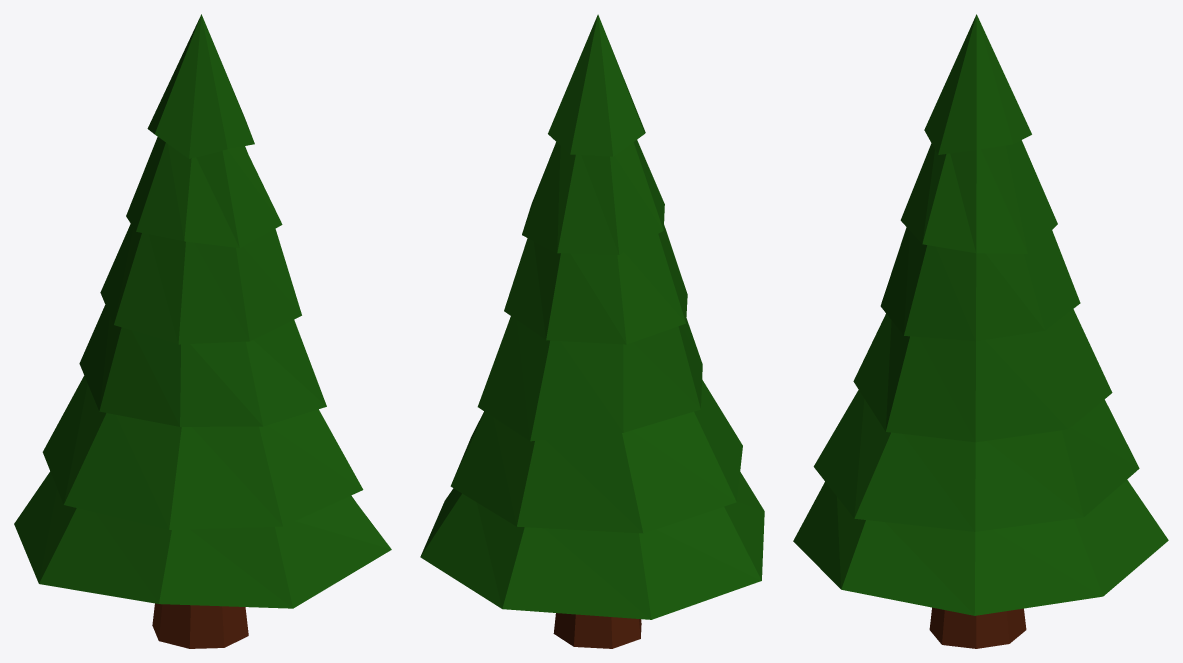
The model's file is Tree.FBX.
The picture shows the model from 3 angles, left to right: view 1: azimuth 30°, elevation 25°; view 2: azimuth 150°, elevation 25°; view 3: azimuth 270°, elevation 25°; orthographic projection.
Visible parts, largest first — view 1: Cylinder001; view 2: Cylinder001; view 3: Cylinder001.
Boxes of the visible parts, x1,y1,x2,y2 form: Cylinder001: (14, 14, 391, 648); Cylinder001: (420, 14, 764, 648); Cylinder001: (793, 14, 1168, 648).
Bounding box in the file's own units: 78.39 × 145 × 80.21.
